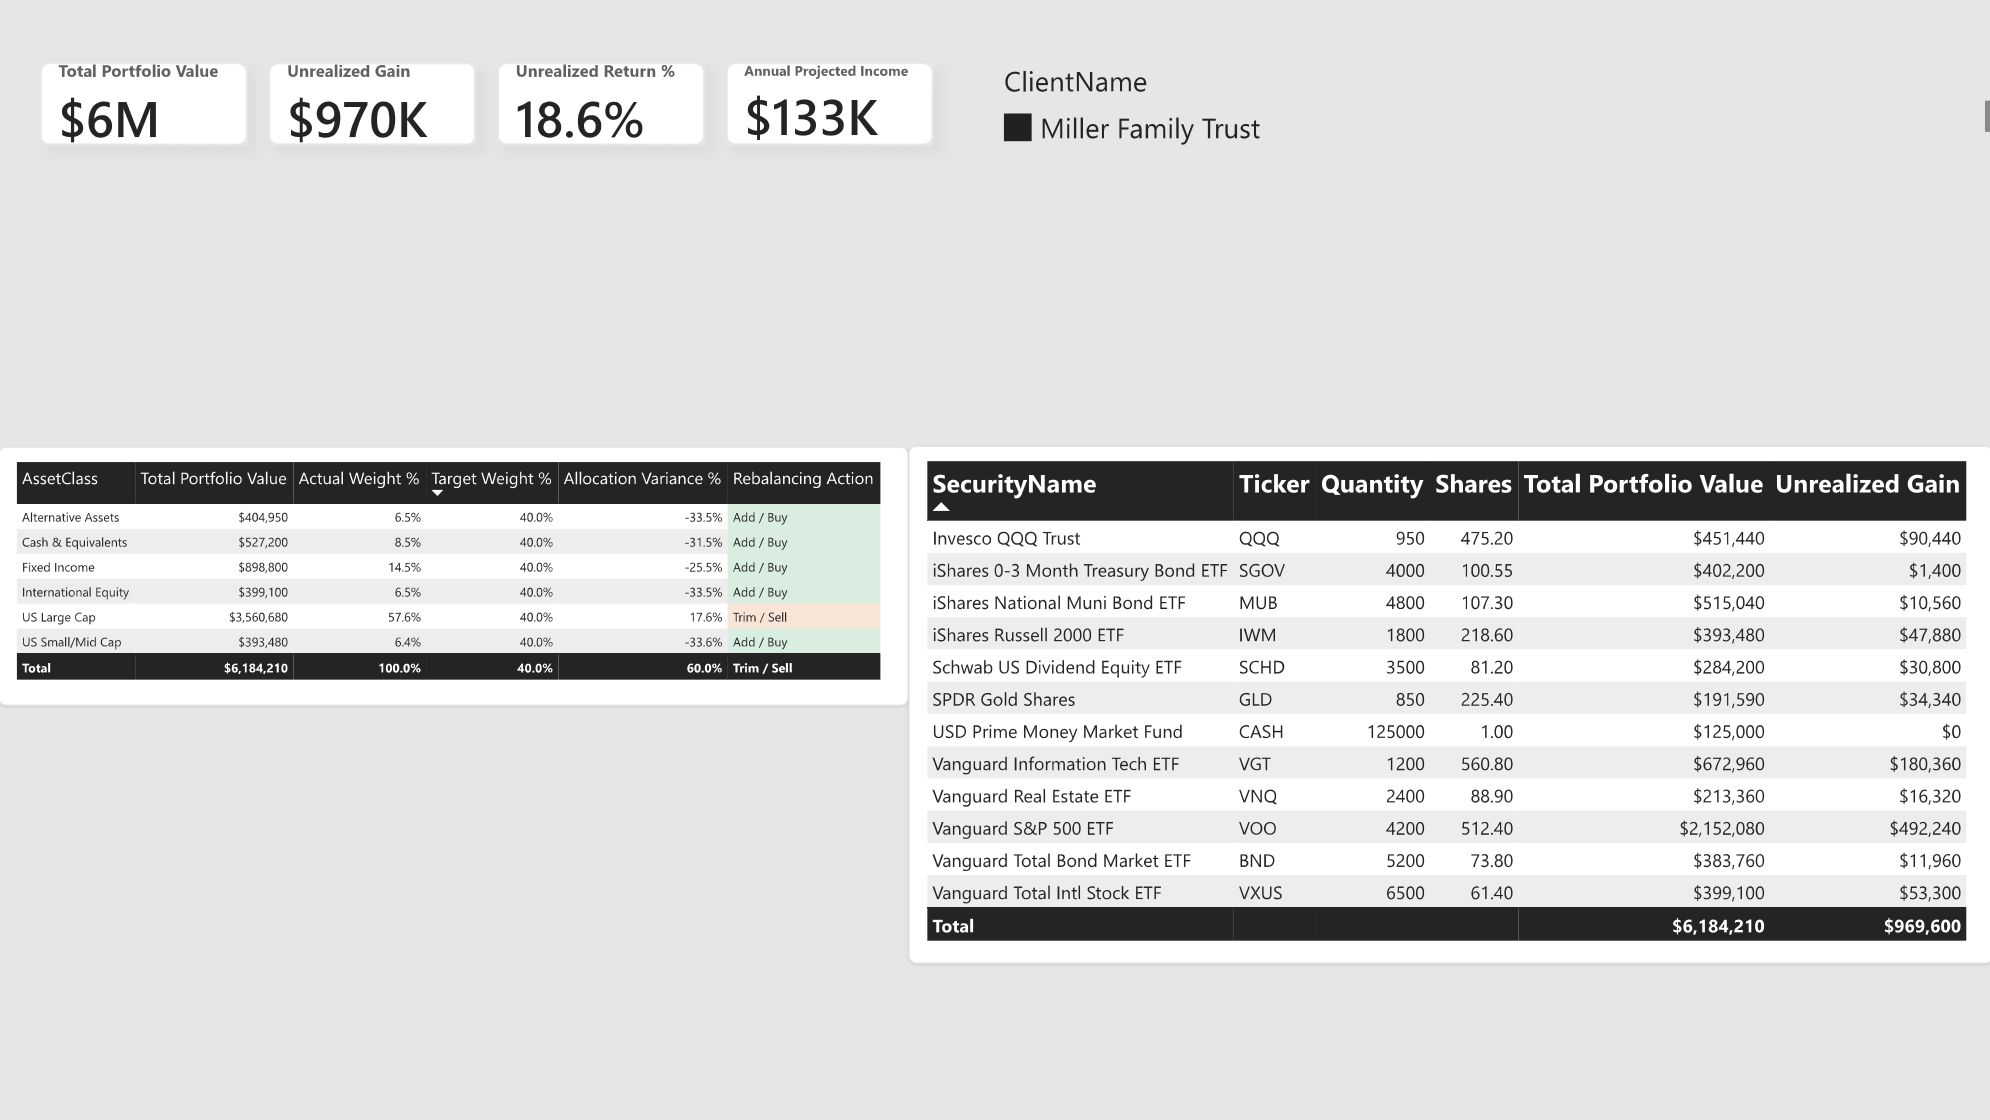

This screenshot's page, from the dashboard's own definition file:
{"tool":"powerbi","page":{"name":"Page 1","canvas":[1920,1080],"ordinal":0},"visuals":[{"type":"cardVisual","fields":{"Data":["_Measures.Total Portfolio Value"]},"box":[40,60,200,80],"z":0},{"type":"cardVisual","fields":{"Data":["_Measures.Unrealized Gain"]},"box":[260,60,200,80],"z":1000},{"type":"cardVisual","fields":{"Data":["_Measures.Unrealized Return %"]},"box":[480,60,200,80],"z":2000},{"type":"cardVisual","fields":{"Data":["_Measures.Annual Projected Income"]},"box":[700,60,200,80],"z":3000},{"type":"tableEx","fields":{"Values":["Fact_Holdings.AssetClass","_Measures.Total Portfolio Value","_Measures.Actual Weight %","_Measures.Target Weight %","_Measures.Allocation Variance %","_Measures.Rebalancing Action"]},"box":[0,429.7,875.9,248.8],"z":4000},{"type":"slicer","fields":{"Values":["Dim_Client_Profile.ClientName"]},"box":[960,59.4,960,79.8],"z":5000},{"type":"tableEx","fields":{"Values":["Fact_Holdings.SecurityName","Fact_Holdings.Ticker","Fact_Holdings.Quantity","Fact_Holdings.CurrentPrice","_Measures.Total Portfolio Value","_Measures.Unrealized Gain"]},"box":[876.4,428.9,1043.6,497.6],"z":6000}]}

Visuals, with their boxes in screenshot pixels (x1, y1, x2, y2), scaled from the page's 1920x1080 canvas onto the 1990x1120 screenshot:
cardVisual - _Measures.Total Portfolio Value: box=[41, 62, 249, 145]
cardVisual - _Measures.Unrealized Gain: box=[269, 62, 477, 145]
cardVisual - _Measures.Unrealized Return %: box=[497, 62, 705, 145]
cardVisual - _Measures.Annual Projected Income: box=[726, 62, 933, 145]
tableEx - Fact_Holdings.AssetClass x _Measures.Total Portfolio Value: box=[0, 446, 908, 704]
slicer - Dim_Client_Profile.ClientName: box=[995, 62, 1989, 144]
tableEx - Fact_Holdings.SecurityName x Fact_Holdings.Ticker: box=[908, 445, 1989, 961]
